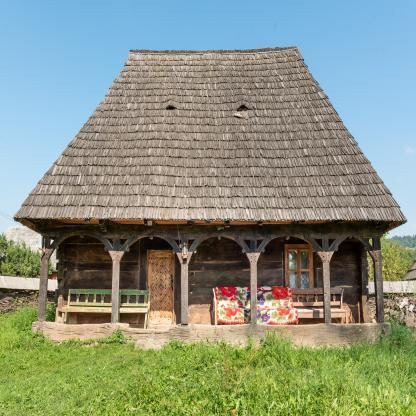Building Outline: (12, 46, 408, 345)
Dont: (212, 287, 348, 325), (61, 288, 151, 328)
Door: (145, 249, 175, 325)
Facade: (56, 222, 369, 346)
Ground Floor: (56, 160, 369, 345)
Pillar: (35, 222, 389, 324)
Roof: (12, 46, 408, 233)
Window: (285, 244, 314, 297)
